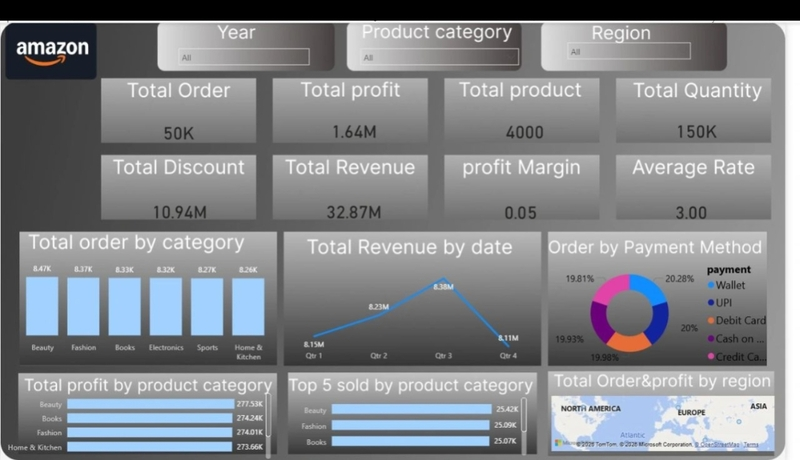

What the dashboard file says about the page in this screenshot:
{"tool":"powerbi","page":{"name":"Page 6","canvas":[1280,720],"ordinal":0},"visuals":[{"type":"donutChart","fields":{"Category":["cleaned_dataset.payment_method"],"Y":["Sum(cleaned_dataset.order_id)"]},"box":[895.7,384.3,370,182.9],"z":0},{"type":"map","fields":{"Category":["cleaned_dataset.customer_region"],"Size":["Dax.Total Order"]},"box":[894.3,607.1,372.9,101.4],"z":1000},{"type":"clusteredBarChart","fields":{"Category":["cleaned_dataset.product_category"],"Y":["Dax.Total Profit"]},"box":[0,594.3,445.7,125.7],"z":2000},{"type":"columnChart","fields":{"Category":["cleaned_dataset.product_category"],"Y":["Dax.Total Order"]},"box":[0,380.1,463.8,183.9],"z":3000},{"type":"lineChart","fields":{"Y":["Dax.Total Revenue"],"Category":["cleaned_dataset.order_date.Variation.Date Hierarchy.Year","cleaned_dataset.order_date.Variation.Date Hierarchy.Quarter","cleaned_dataset.order_date.Variation.Date Hierarchy.Month","cleaned_dataset.order_date.Variation.Date Hierarchy.Day"]},"box":[464.3,397.1,411.4,167.1],"z":4000},{"type":"barChart","fields":{"Category":["cleaned_dataset.product_category"],"Y":["Sum(cleaned_dataset.quantity_sold)"]},"box":[464.3,601.4,398.6,112.9],"z":5000},{"type":"card","fields":{"Values":["Dax.Total Order"]},"box":[158.6,70,264.3,218.6],"z":6000},{"type":"slicer","fields":{"Values":["cleaned_dataset.order_date.Variation.Date Hierarchy.Year","cleaned_dataset.order_date.Variation.Date Hierarchy.Quarter","cleaned_dataset.order_date.Variation.Date Hierarchy.Month","cleaned_dataset.order_date.Variation.Date Hierarchy.Day"]},"box":[280,31.4,234.3,70],"z":7000},{"type":"slicer","fields":{"Values":["cleaned_dataset.product_category"]},"box":[577.1,31.4,278.6,70],"z":8000},{"type":"slicer","fields":{"Values":["cleaned_dataset.customer_region"]},"box":[914.3,21.4,221.4,67.1],"z":9000},{"type":"card","fields":{"Values":["Dax.Total Profit"]},"box":[445.7,67.1,262.9,218.6],"z":10000},{"type":"card","fields":{"Values":["Dax.Total product"]},"box":[724.3,74.3,262.9,204.3],"z":11000},{"type":"card","fields":{"Values":["Dax.Total Quantity"]},"box":[1004.3,67.1,262.9,217.1],"z":12000},{"type":"card","fields":{"Values":["Dax.Total discount"]},"box":[160,198.6,262.9,218.6],"z":13000},{"type":"card","fields":{"Values":["Dax.Total Revenue"]},"box":[445.7,198.6,262.9,218.6],"z":14000},{"type":"card","fields":{"Values":["Dax.Average Rate"]},"box":[1025.7,200,202.9,218.6],"z":15000},{"type":"card","fields":{"Values":["Dax.Profit Margin"]},"box":[717.1,200,264.3,218.6],"z":16000}]}

Visuals, with their boxes in screenshot pixels (x1, y1, x2, y2), scaled from the page's 1280x720 canvas onto the 800x460 screenshot:
donutChart - cleaned_dataset.payment_method x Sum(cleaned_dataset.order_id): 560:246:791:362
map - cleaned_dataset.customer_region x Dax.Total Order: 559:388:792:453
clusteredBarChart - cleaned_dataset.product_category x Dax.Total Profit: 0:380:279:459
columnChart - cleaned_dataset.product_category x Dax.Total Order: 0:243:290:360
lineChart - Dax.Total Revenue x cleaned_dataset.order_date.Variation.Date Hierarchy.Year: 290:254:547:360
barChart - cleaned_dataset.product_category x Sum(cleaned_dataset.quantity_sold): 290:384:539:456
card - Dax.Total Order: 99:45:264:184
slicer - cleaned_dataset.order_date.Variation.Date Hierarchy.Year x cleaned_dataset.order_date.Variation.Date Hierarchy.Quarter: 175:20:321:65
slicer - cleaned_dataset.product_category: 361:20:535:65
slicer - cleaned_dataset.customer_region: 571:14:710:57
card - Dax.Total Profit: 279:43:443:183
card - Dax.Total product: 453:47:617:178
card - Dax.Total Quantity: 628:43:792:182
card - Dax.Total discount: 100:127:264:267
card - Dax.Total Revenue: 279:127:443:267
card - Dax.Average Rate: 641:128:768:267
card - Dax.Profit Margin: 448:128:613:267
